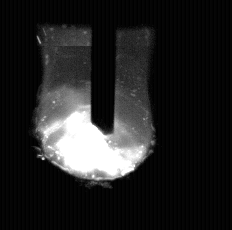arame: (92, 0, 116, 135)
poca: (48, 0, 146, 230)
